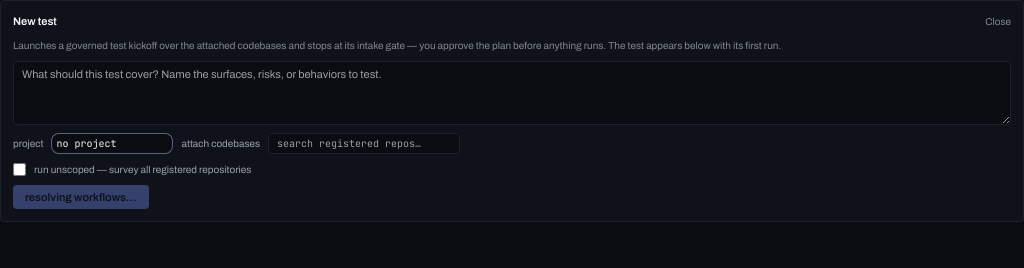
Test case: the workflow is read off the daemon, never assumed › F-3: while GET /workflows is PENDING the launch button is disabled ("resolving workflows…") — a click cannot launch a silent plain run; it enables the moment th
Type "wicked-studio" into the field with test id "testing-launch-repo-search" at {"x": 364, "y": 143}, box [268, 132, 460, 154]
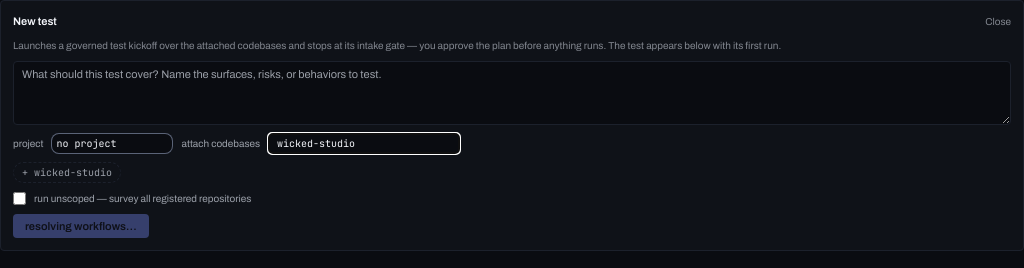
Click the button with test id "testing-launch-repo-option" at {"x": 67, "y": 172}, box [13, 162, 121, 182]
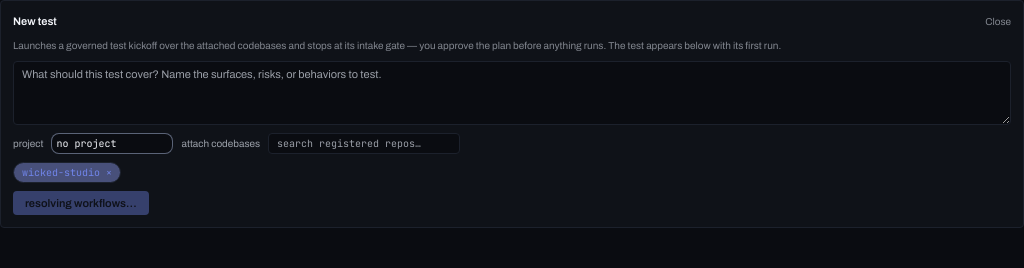
Type "Quick" into the text box with test id "testing-launch-instructions" at {"x": 512, "y": 92}, box [13, 60, 1011, 124]
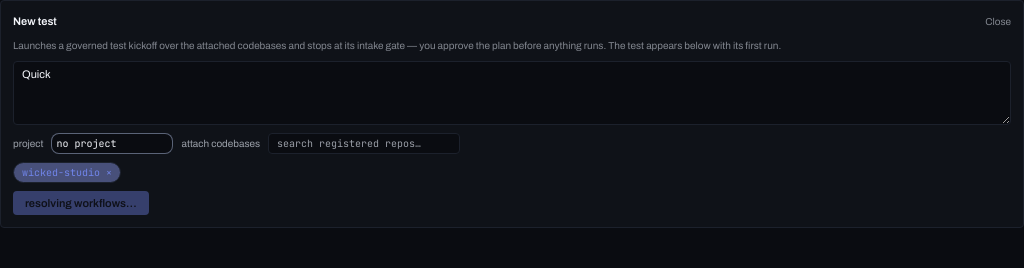
Click the button with test id "testing-launch-submit" at {"x": 81, "y": 203}, box [13, 190, 149, 215]
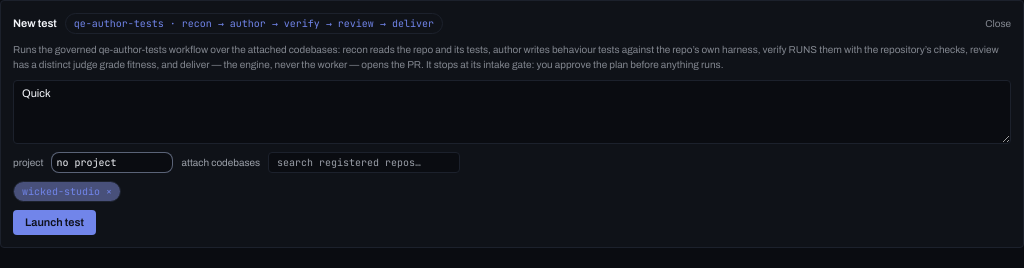
Expected: the button with test id "testing-launch-submit" is enabled
Expected: the button with test id "testing-launch-submit" reads "Launch test"
Click the button with test id "testing-launch-submit" at {"x": 54, "y": 222}, box [13, 210, 96, 234]
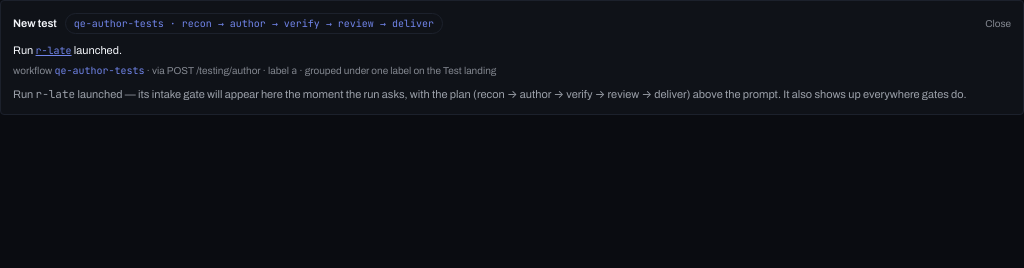
Expected: the element with test id "testing-launch-waiting" is shown, [13, 86, 1011, 102]
